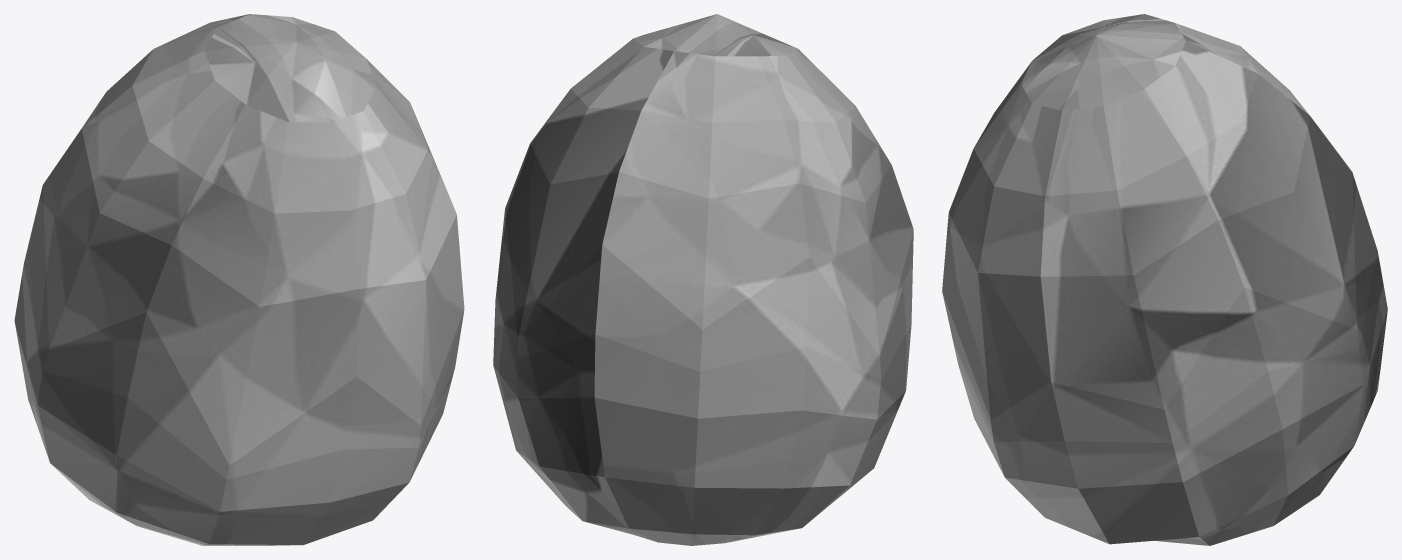
File: 01_egg_still.fbx
3 renders of one model, left to right at view 1: azimuth 30°, elevation 25°; view 2: azimuth 150°, elevation 25°; view 3: azimuth 270°, elevation 25°, orthographic. The views are drawn at different scales.
Visible parts, largest first — view 1: polySurface35, polySurface34; view 2: polySurface34, polySurface35; view 3: polySurface35, polySurface34.
Boxes of the visible parts, x1,y1,x2,y2 form: polySurface35: (43,14,464,465); polySurface34: (14,185,464,545); polySurface34: (493,210,913,545); polySurface35: (505,14,913,356); polySurface35: (942,14,1356,419); polySurface34: (942,172,1387,545).
Size of the model in its own units: 1.42 by 1.74 by 1.47.
